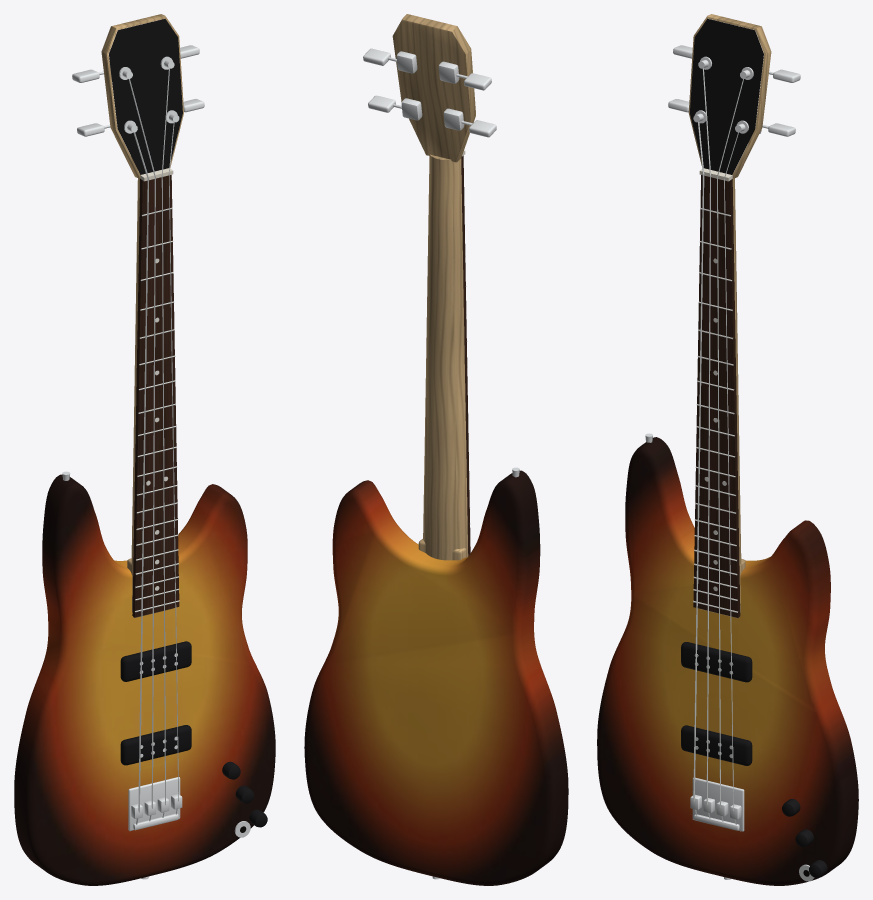
File: bass-guitar.glb
The picture shows the model from 3 angles, left to right: view 1: azimuth 30°, elevation 25°; view 2: azimuth 150°, elevation 25°; view 3: azimuth 330°, elevation 25°; orthographic projection.
Visible parts, largest first — view 1: Bass_Guitar; view 2: Bass_Guitar; view 3: Bass_Guitar.
Boxes of the visible parts, bbox=[...] form: Bass_Guitar: bbox=[14, 14, 275, 885]; Bass_Guitar: bbox=[304, 14, 568, 885]; Bass_Guitar: bbox=[597, 14, 858, 885].
Bounding box in the file's own units: 0.3588 × 1.17 × 0.0719.
12 materials, 3 textured.
